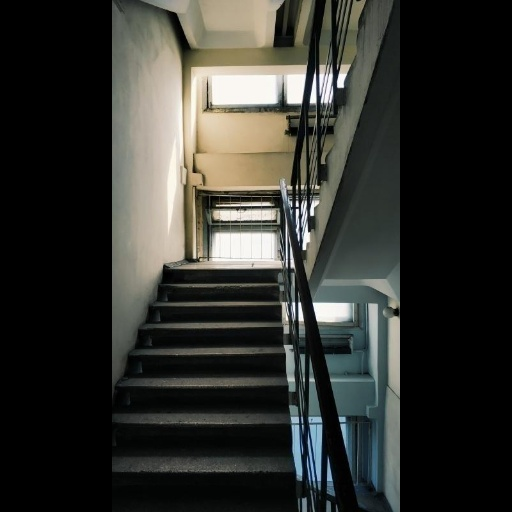Stairs: (114, 265, 297, 512)
